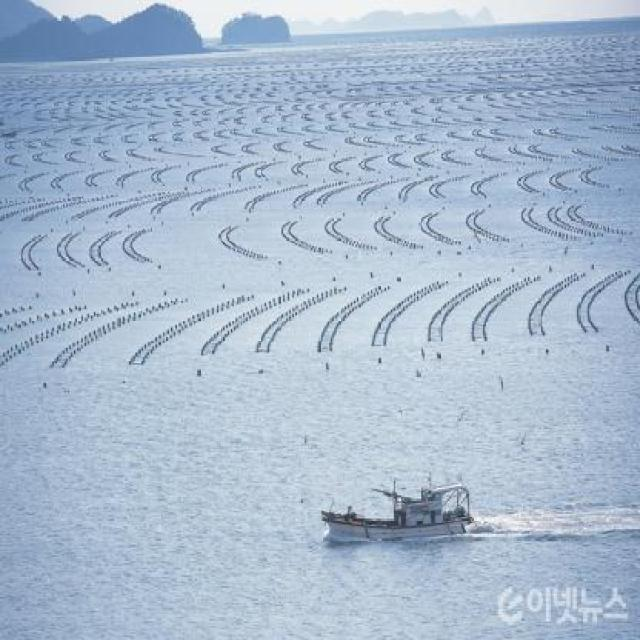a: (485, 296, 509, 330), (133, 230, 158, 261), (576, 282, 596, 320), (530, 209, 556, 238), (465, 214, 488, 245), (87, 238, 116, 262), (282, 225, 303, 256), (373, 220, 397, 247), (55, 241, 78, 269), (220, 235, 247, 258), (438, 301, 459, 330), (324, 219, 349, 243), (327, 313, 352, 337), (140, 126, 168, 147), (150, 328, 174, 352), (81, 169, 107, 191), (424, 214, 446, 240), (534, 290, 553, 318), (79, 329, 103, 351), (386, 307, 407, 330), (122, 165, 140, 189), (267, 319, 286, 334), (292, 159, 310, 174), (309, 188, 326, 203), (223, 319, 244, 326), (182, 317, 189, 337)
